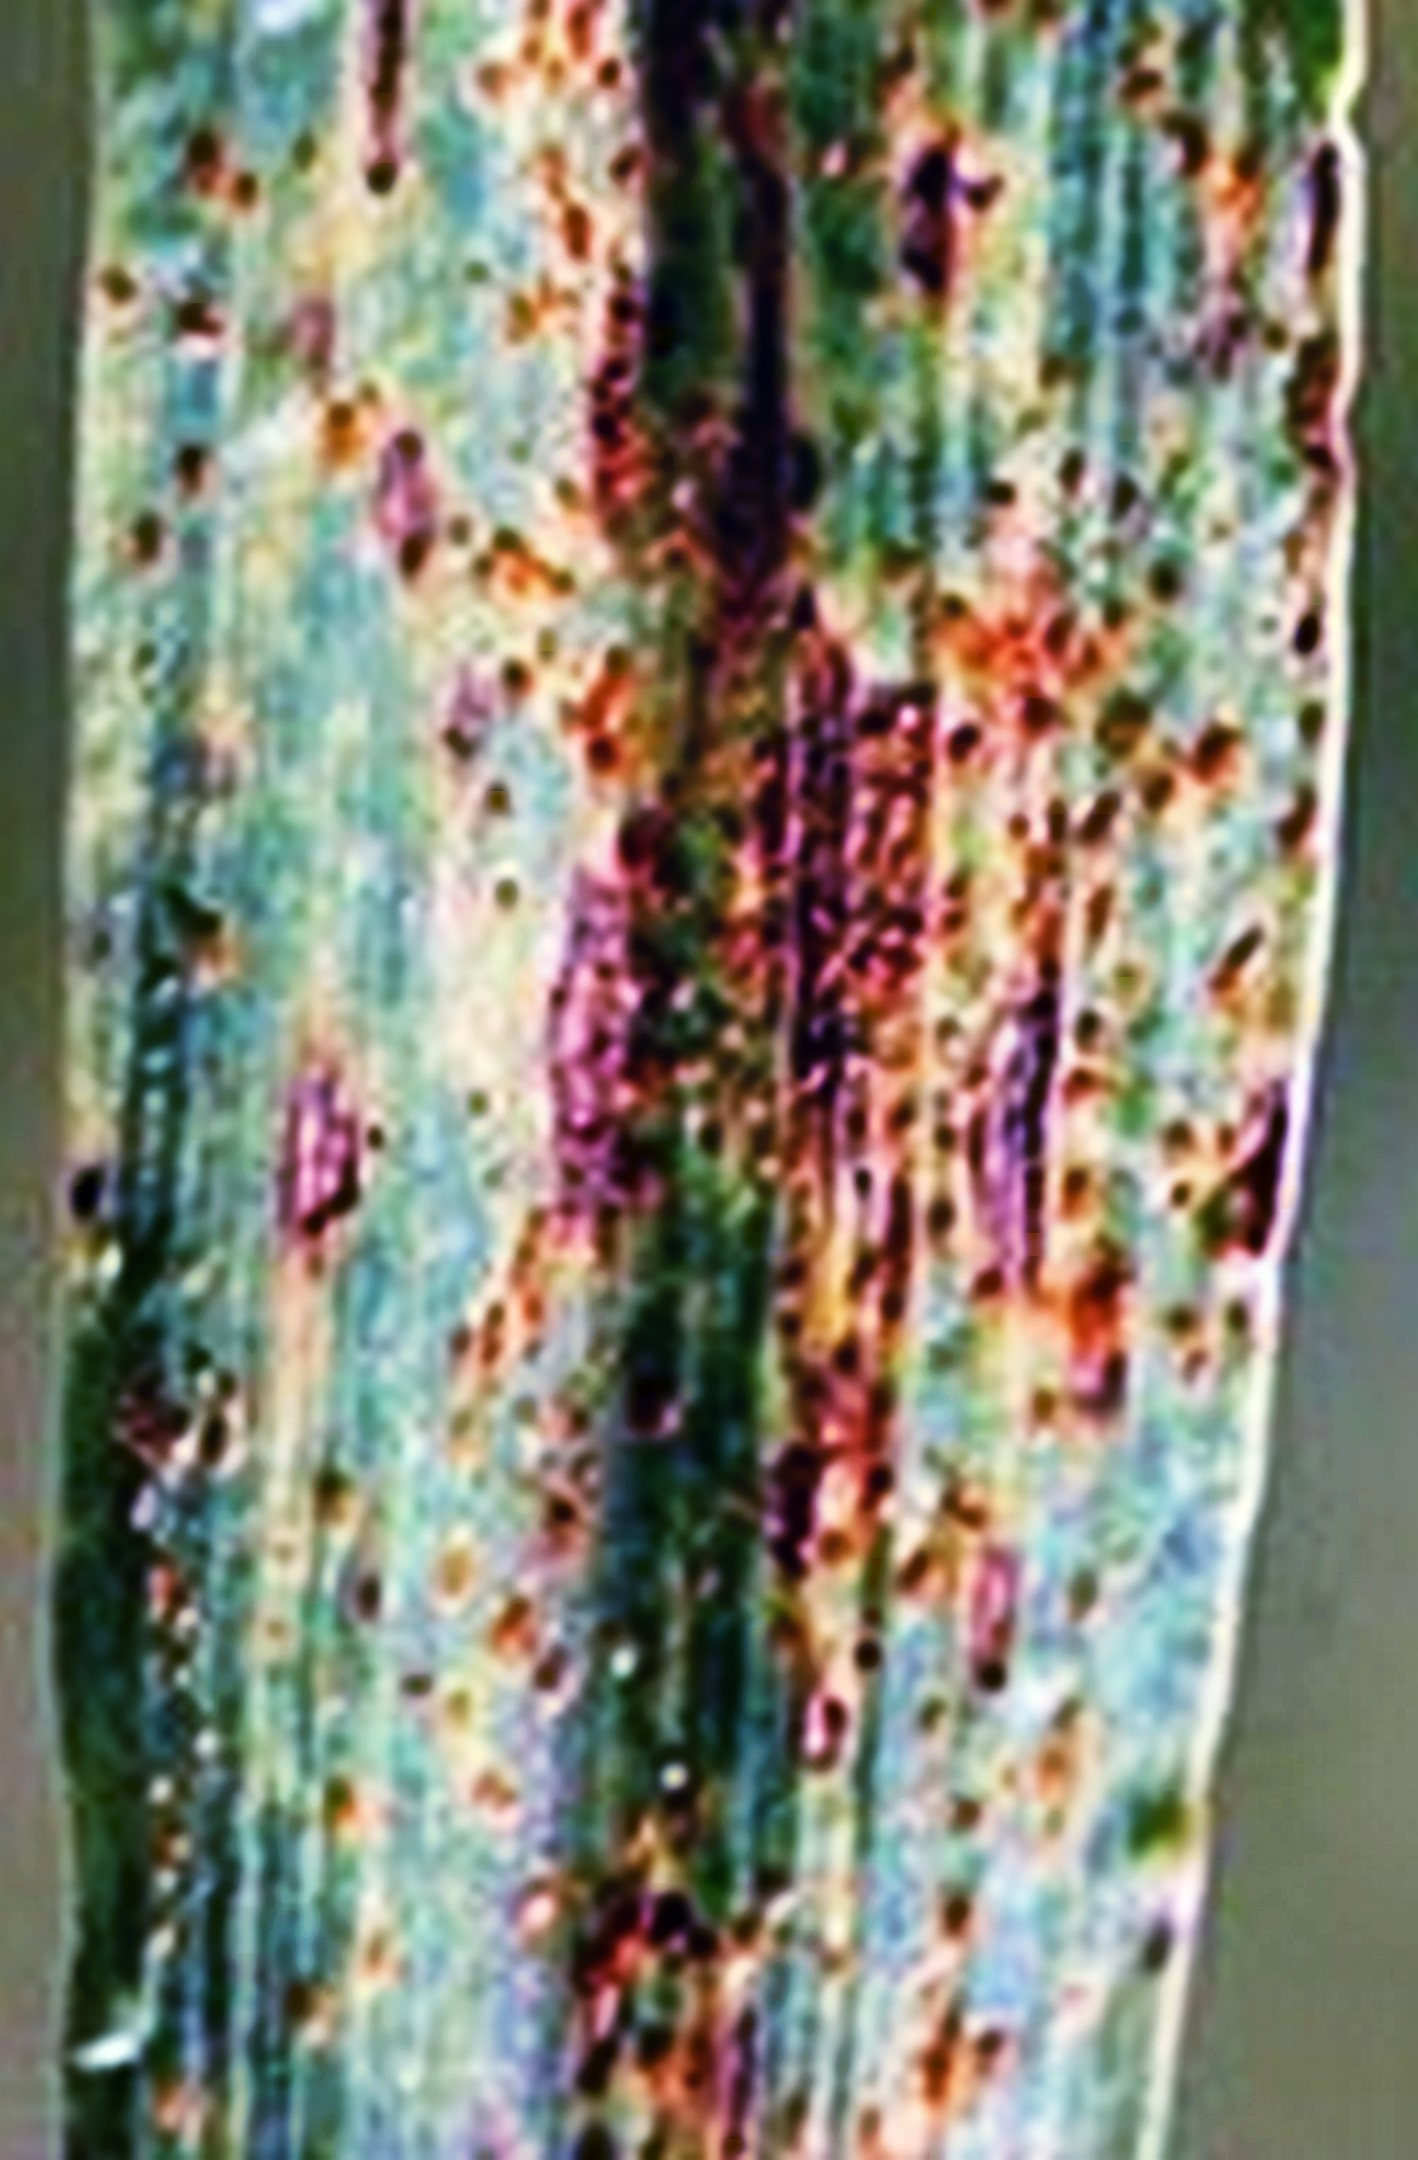Leaf Rust: (81, 133, 1336, 2079)
